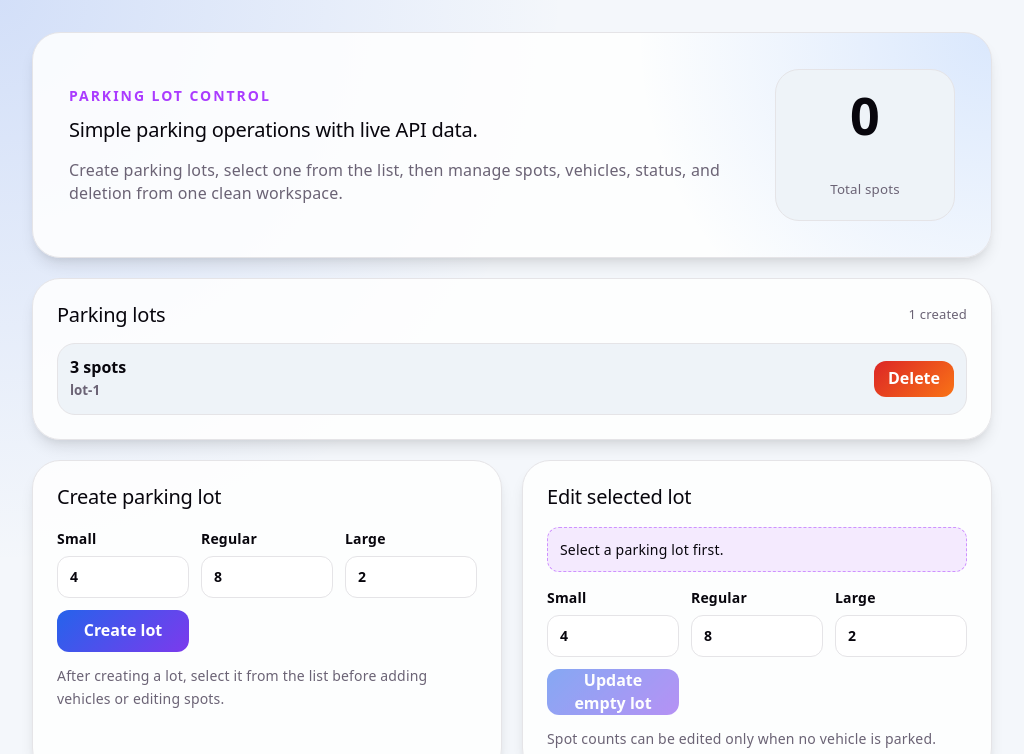
Test: deletes a parking lot from the list
Expected: the text "1 created" is shown, x1=908 y1=303 x2=967 y2=326
Click the button "Delete" at (914, 379), box x1=874 y1=361 x2=954 y2=397
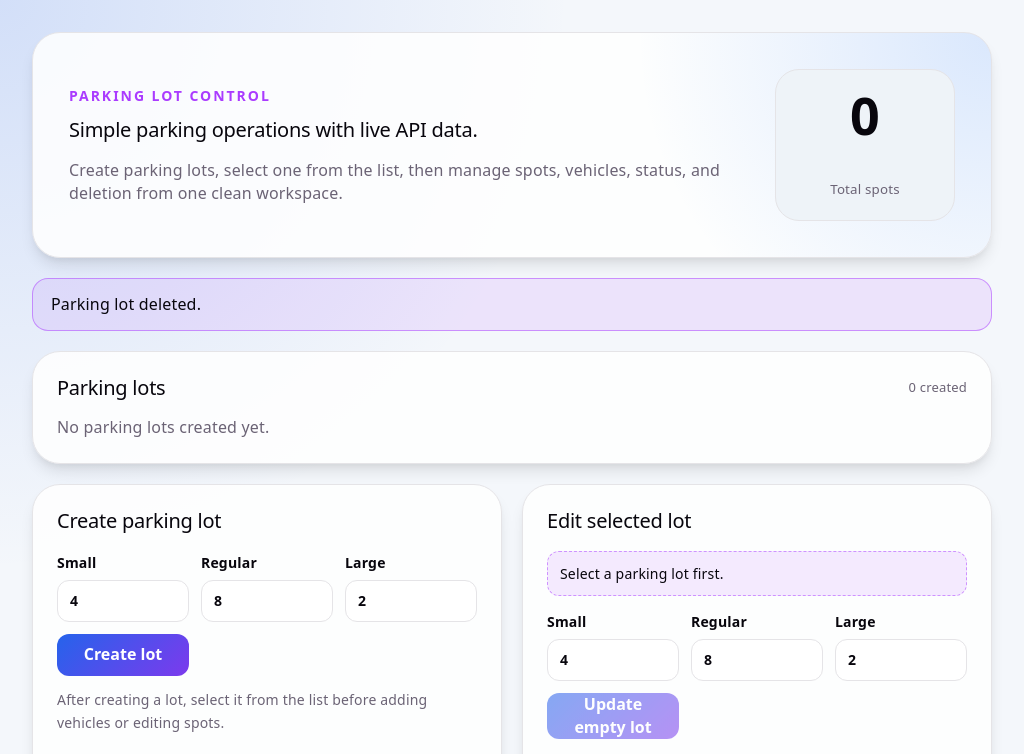
Now the text "Parking lot deleted." is shown, box x1=32 y1=278 x2=992 y2=331
Now the text "0 created" is shown, box x1=908 y1=376 x2=967 y2=400
